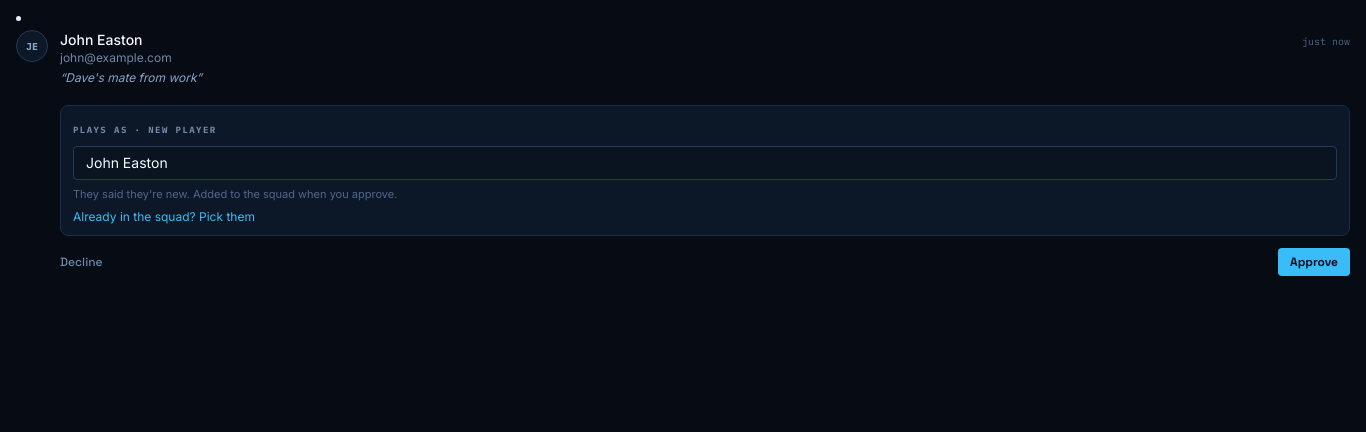
ReviewCard › switches between new player and the squad list
Click the button "Already in the squad? Pick them" at {"x": 164, "y": 216}, box [73,208,255,224]
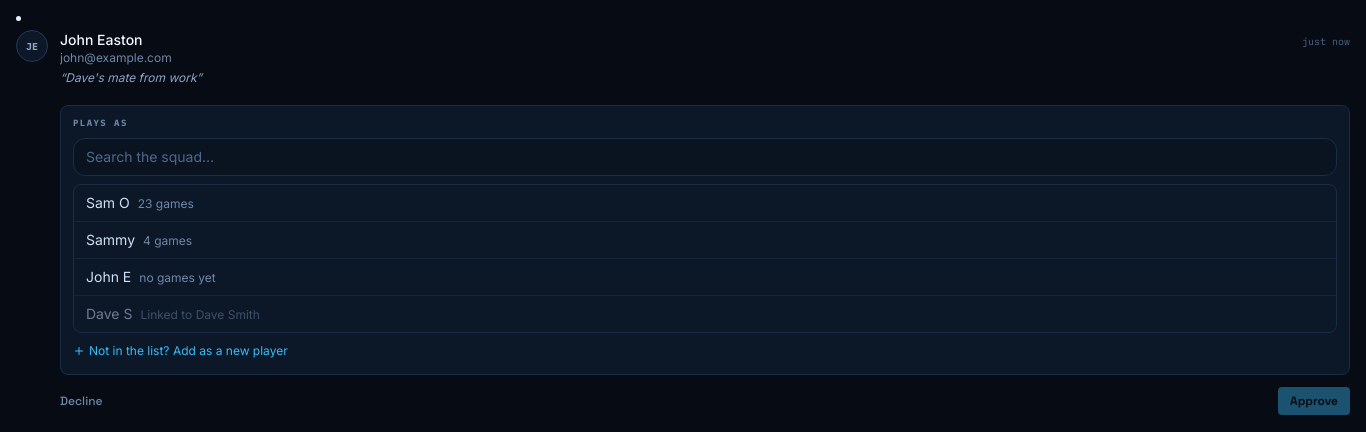
Result: the field labelled "Search the squad" is shown at [73,138,1337,176]
Click the button "Not in the list? Add as a new player" at {"x": 180, "y": 350}, box [73,342,288,358]
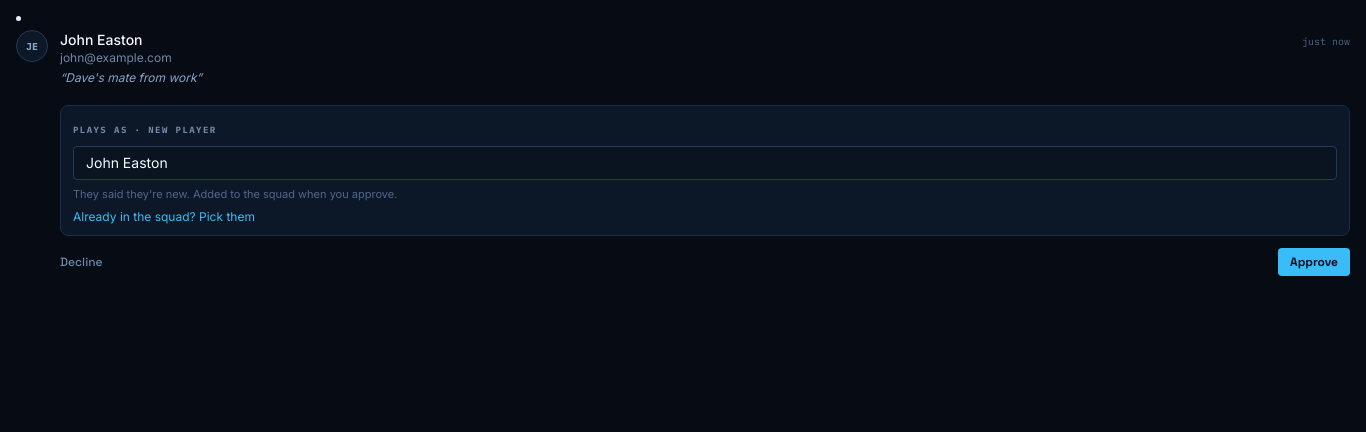
Result: the field labelled "Plays as · new player" holds "John Easton" at [73,146,1337,180]
